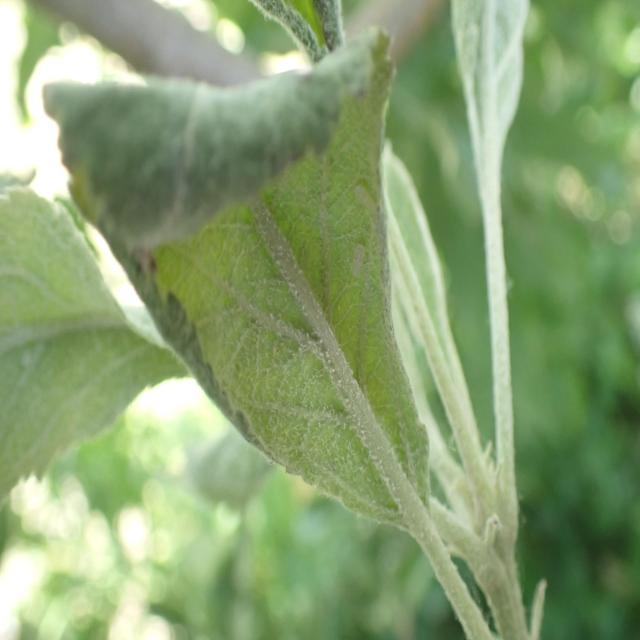Powdery_mildew: (54, 27, 449, 560)
